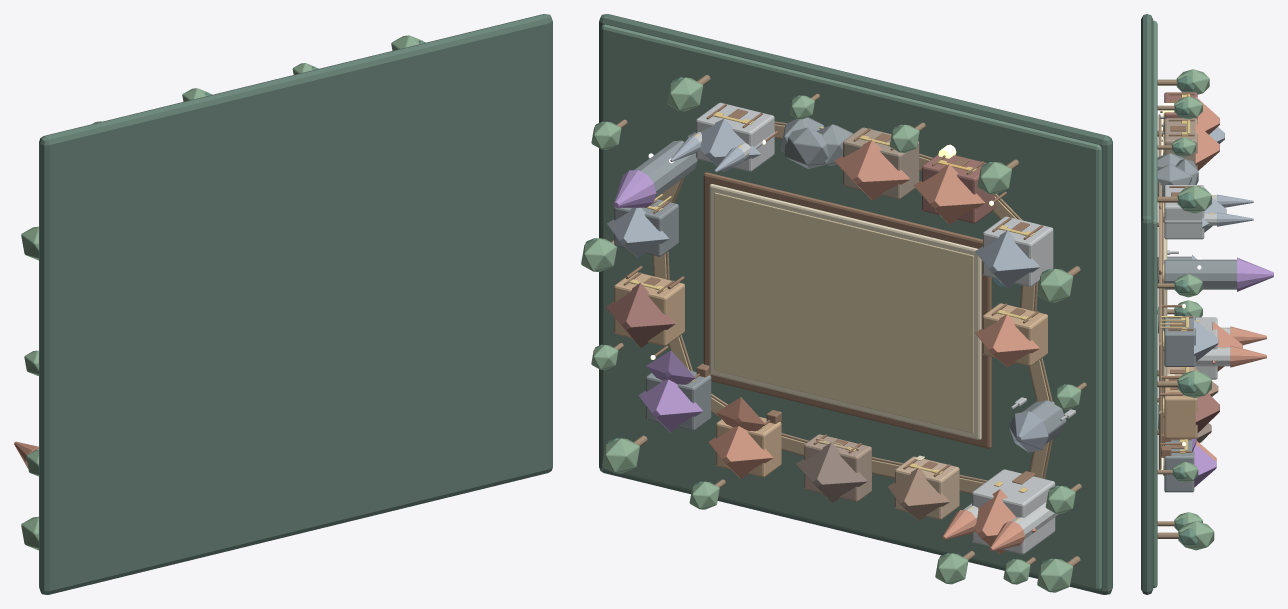
File: guildholm_3d_board.glb
3 views of the same model, side by side, from view 1: azimuth 30°, elevation 25°; view 2: azimuth 150°, elevation 25°; view 3: azimuth 270°, elevation 25° (orthographic). The views are drawn at different scales.
Parts seen in each view (by area): view 1: board-edge; view 2: board-ground, center-inset, board-edge, center-wood-frame, center-parchment, castle-keep, body.004, roof.003, roof.006, body.006, body.001, roof.002 (+33 smaller); view 3: board-edge, board-ground, tower.004, body.006, body.004, body.005, body.007, tower-roof.004, body.003, roof.003, cave-right, roof.006 (+32 smaller).
Boxes of the visible parts, bbox=[...] form: board-edge: bbox=[39, 14, 552, 594]; board-ground: bbox=[601, 24, 1101, 590]; center-inset: bbox=[714, 192, 973, 433]; board-edge: bbox=[599, 14, 1112, 594]; center-wood-frame: bbox=[703, 172, 991, 448]; center-parchment: bbox=[709, 184, 981, 439]; castle-keep: bbox=[972, 469, 1055, 554]; body.004: bbox=[696, 102, 774, 171]; roof.003: bbox=[834, 139, 910, 200]; roof.006: bbox=[606, 282, 675, 348]; body.006: bbox=[614, 272, 684, 346]; body.001: bbox=[983, 216, 1053, 286]; roof.002: bbox=[913, 164, 984, 224]; board-edge: bbox=[1141, 14, 1153, 594]; board-ground: bbox=[1153, 21, 1157, 587]; tower.004: bbox=[1164, 259, 1236, 289]; body.006: bbox=[1164, 378, 1197, 438]; body.004: bbox=[1164, 185, 1204, 239]; body.005: bbox=[1164, 316, 1195, 366]; body.007: bbox=[1164, 439, 1194, 492]; tower-roof.004: bbox=[1237, 257, 1273, 291]; body.003: bbox=[1164, 118, 1197, 168]; roof.003: bbox=[1195, 123, 1219, 170]; cave-right: bbox=[1157, 164, 1191, 196]; roof.006: bbox=[1195, 393, 1219, 432].
Size of the model in its own units: 29.2 by 25.03 by 7.93.
